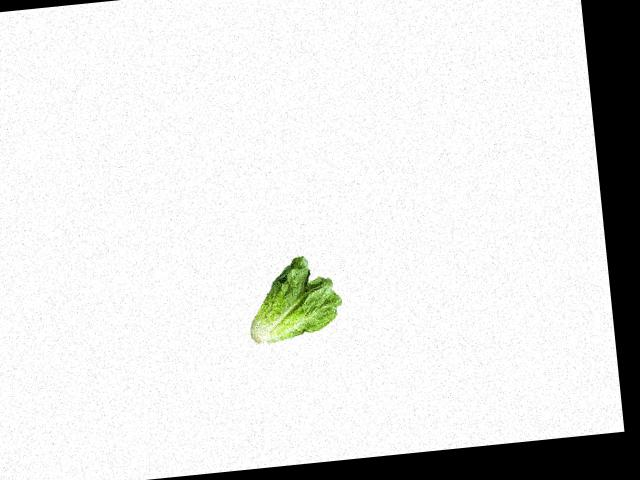lettuce: (237, 249, 345, 353)
